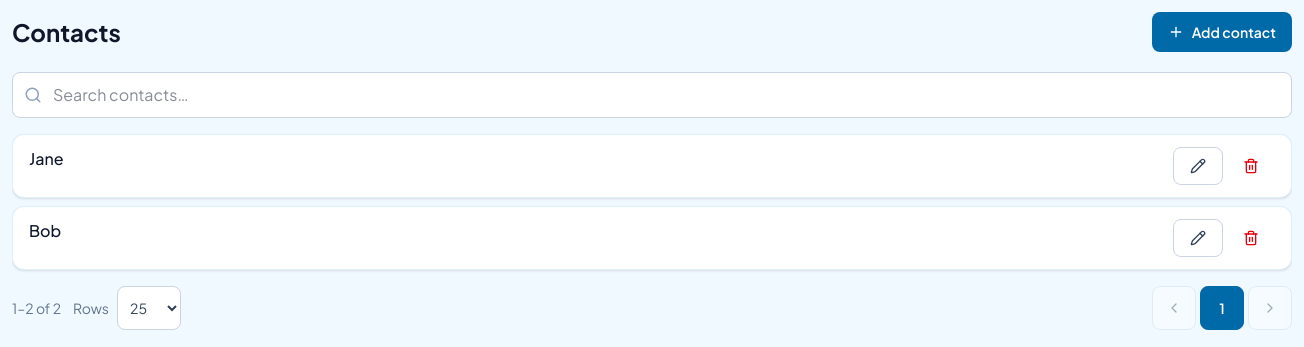
Test: search refetches with the term
The image size is (1304, 347).
Expected: the text "Bob" is shown, [29, 219, 61, 243]
Type "jan" into the field with placeholder "Search contacts…" at (652, 95), box [12, 72, 1292, 118]
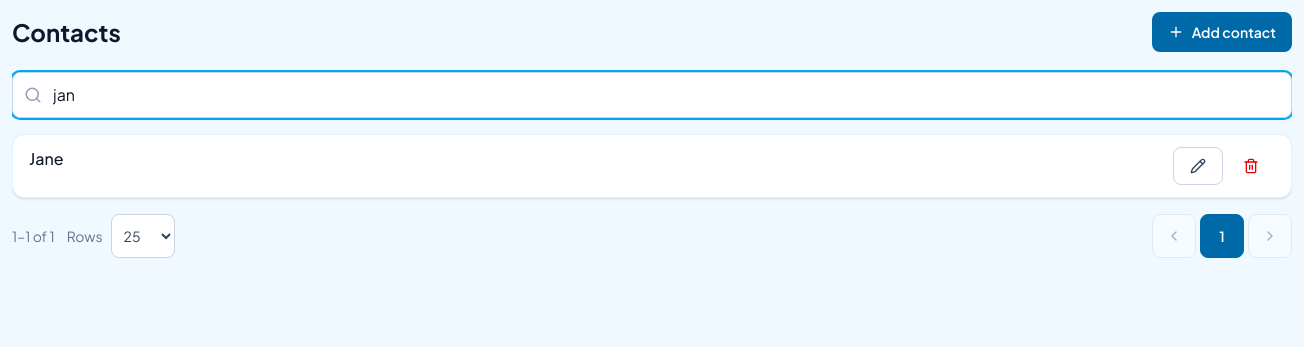
Expected: the text "Jane" is shown, [29, 147, 64, 171]
Now the text "Bob" is gone
